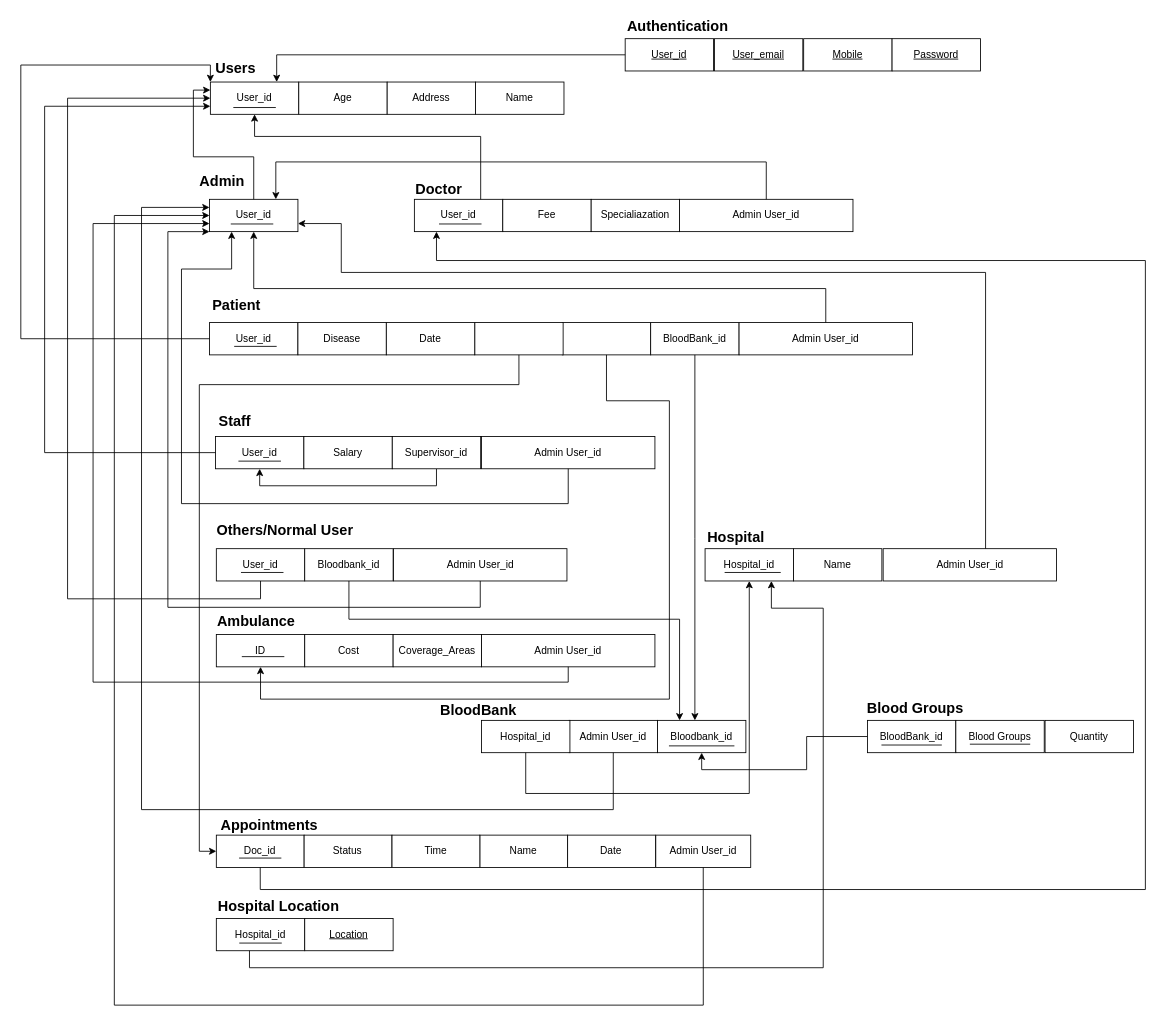
Some shapes in this 1167 by 1027 pixel diagram are drawn without their labels. The centre of each missing label's shape, as x and y in pixels:
Ambulance_id: [606,338]
Appointment_id: [518,338]
